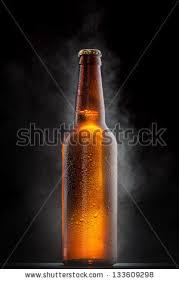Glass bottle: (47, 35, 132, 266)
